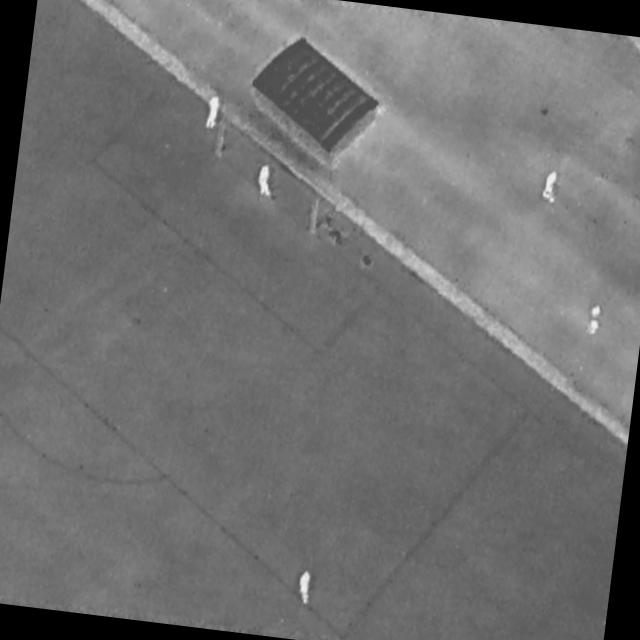person: (293, 567, 318, 610), (252, 160, 277, 202), (538, 166, 563, 207), (585, 300, 604, 340), (204, 93, 221, 129)
